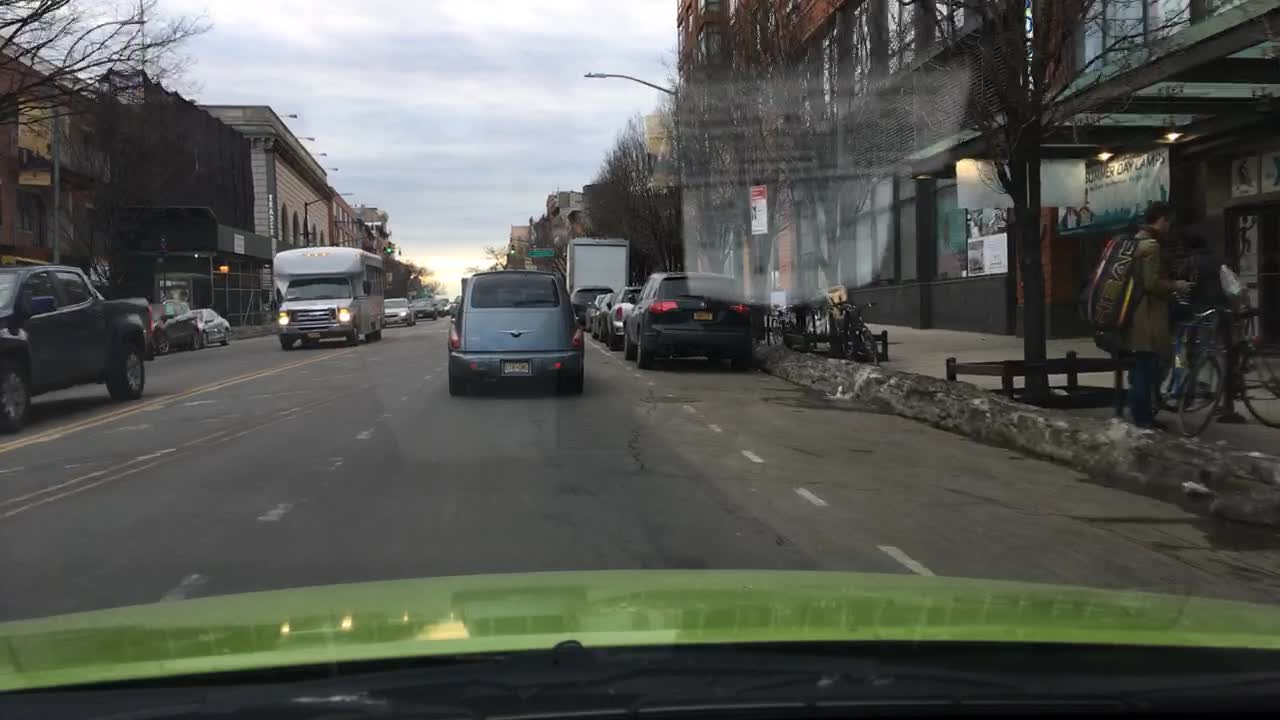bike: (1153, 296, 1279, 425), (1109, 306, 1230, 430), (833, 296, 882, 369)
car: (448, 268, 583, 395), (623, 268, 758, 367), (146, 292, 202, 355), (604, 287, 640, 352), (569, 282, 618, 327), (193, 304, 231, 350), (597, 292, 621, 348), (378, 296, 413, 324), (583, 297, 605, 339), (410, 296, 438, 318), (446, 296, 462, 318), (434, 296, 446, 317)
person: (1084, 194, 1198, 427), (1153, 228, 1251, 422)
traffic light: (385, 240, 392, 255), (511, 240, 513, 254)
traffic sign: (522, 248, 557, 259)
truck: (0, 268, 154, 437), (266, 245, 387, 352), (564, 235, 632, 299)
